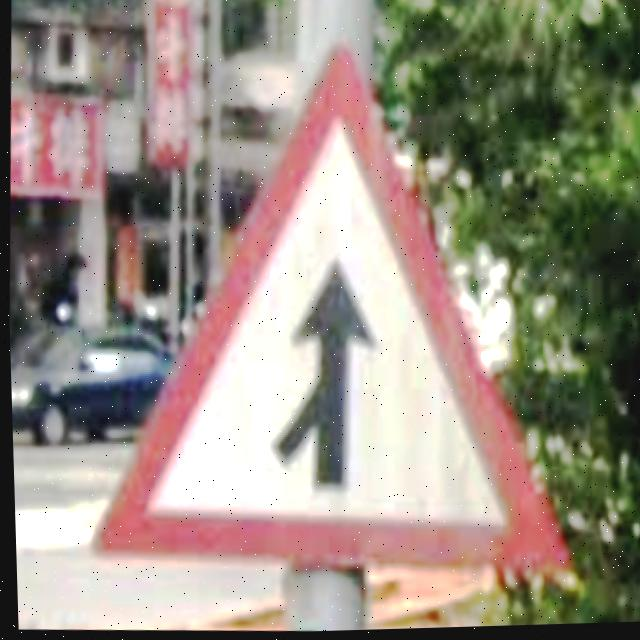leftmerge: (87, 46, 564, 573)
